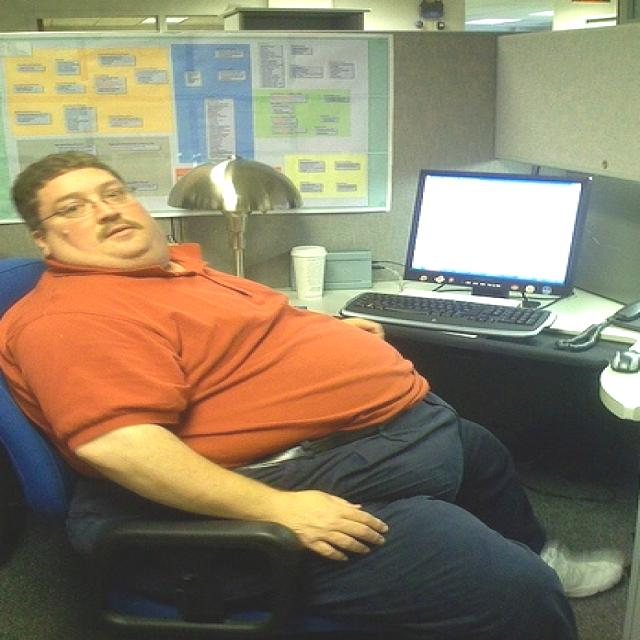piel: (74, 419, 391, 567), (32, 170, 185, 271), (334, 316, 385, 344)
